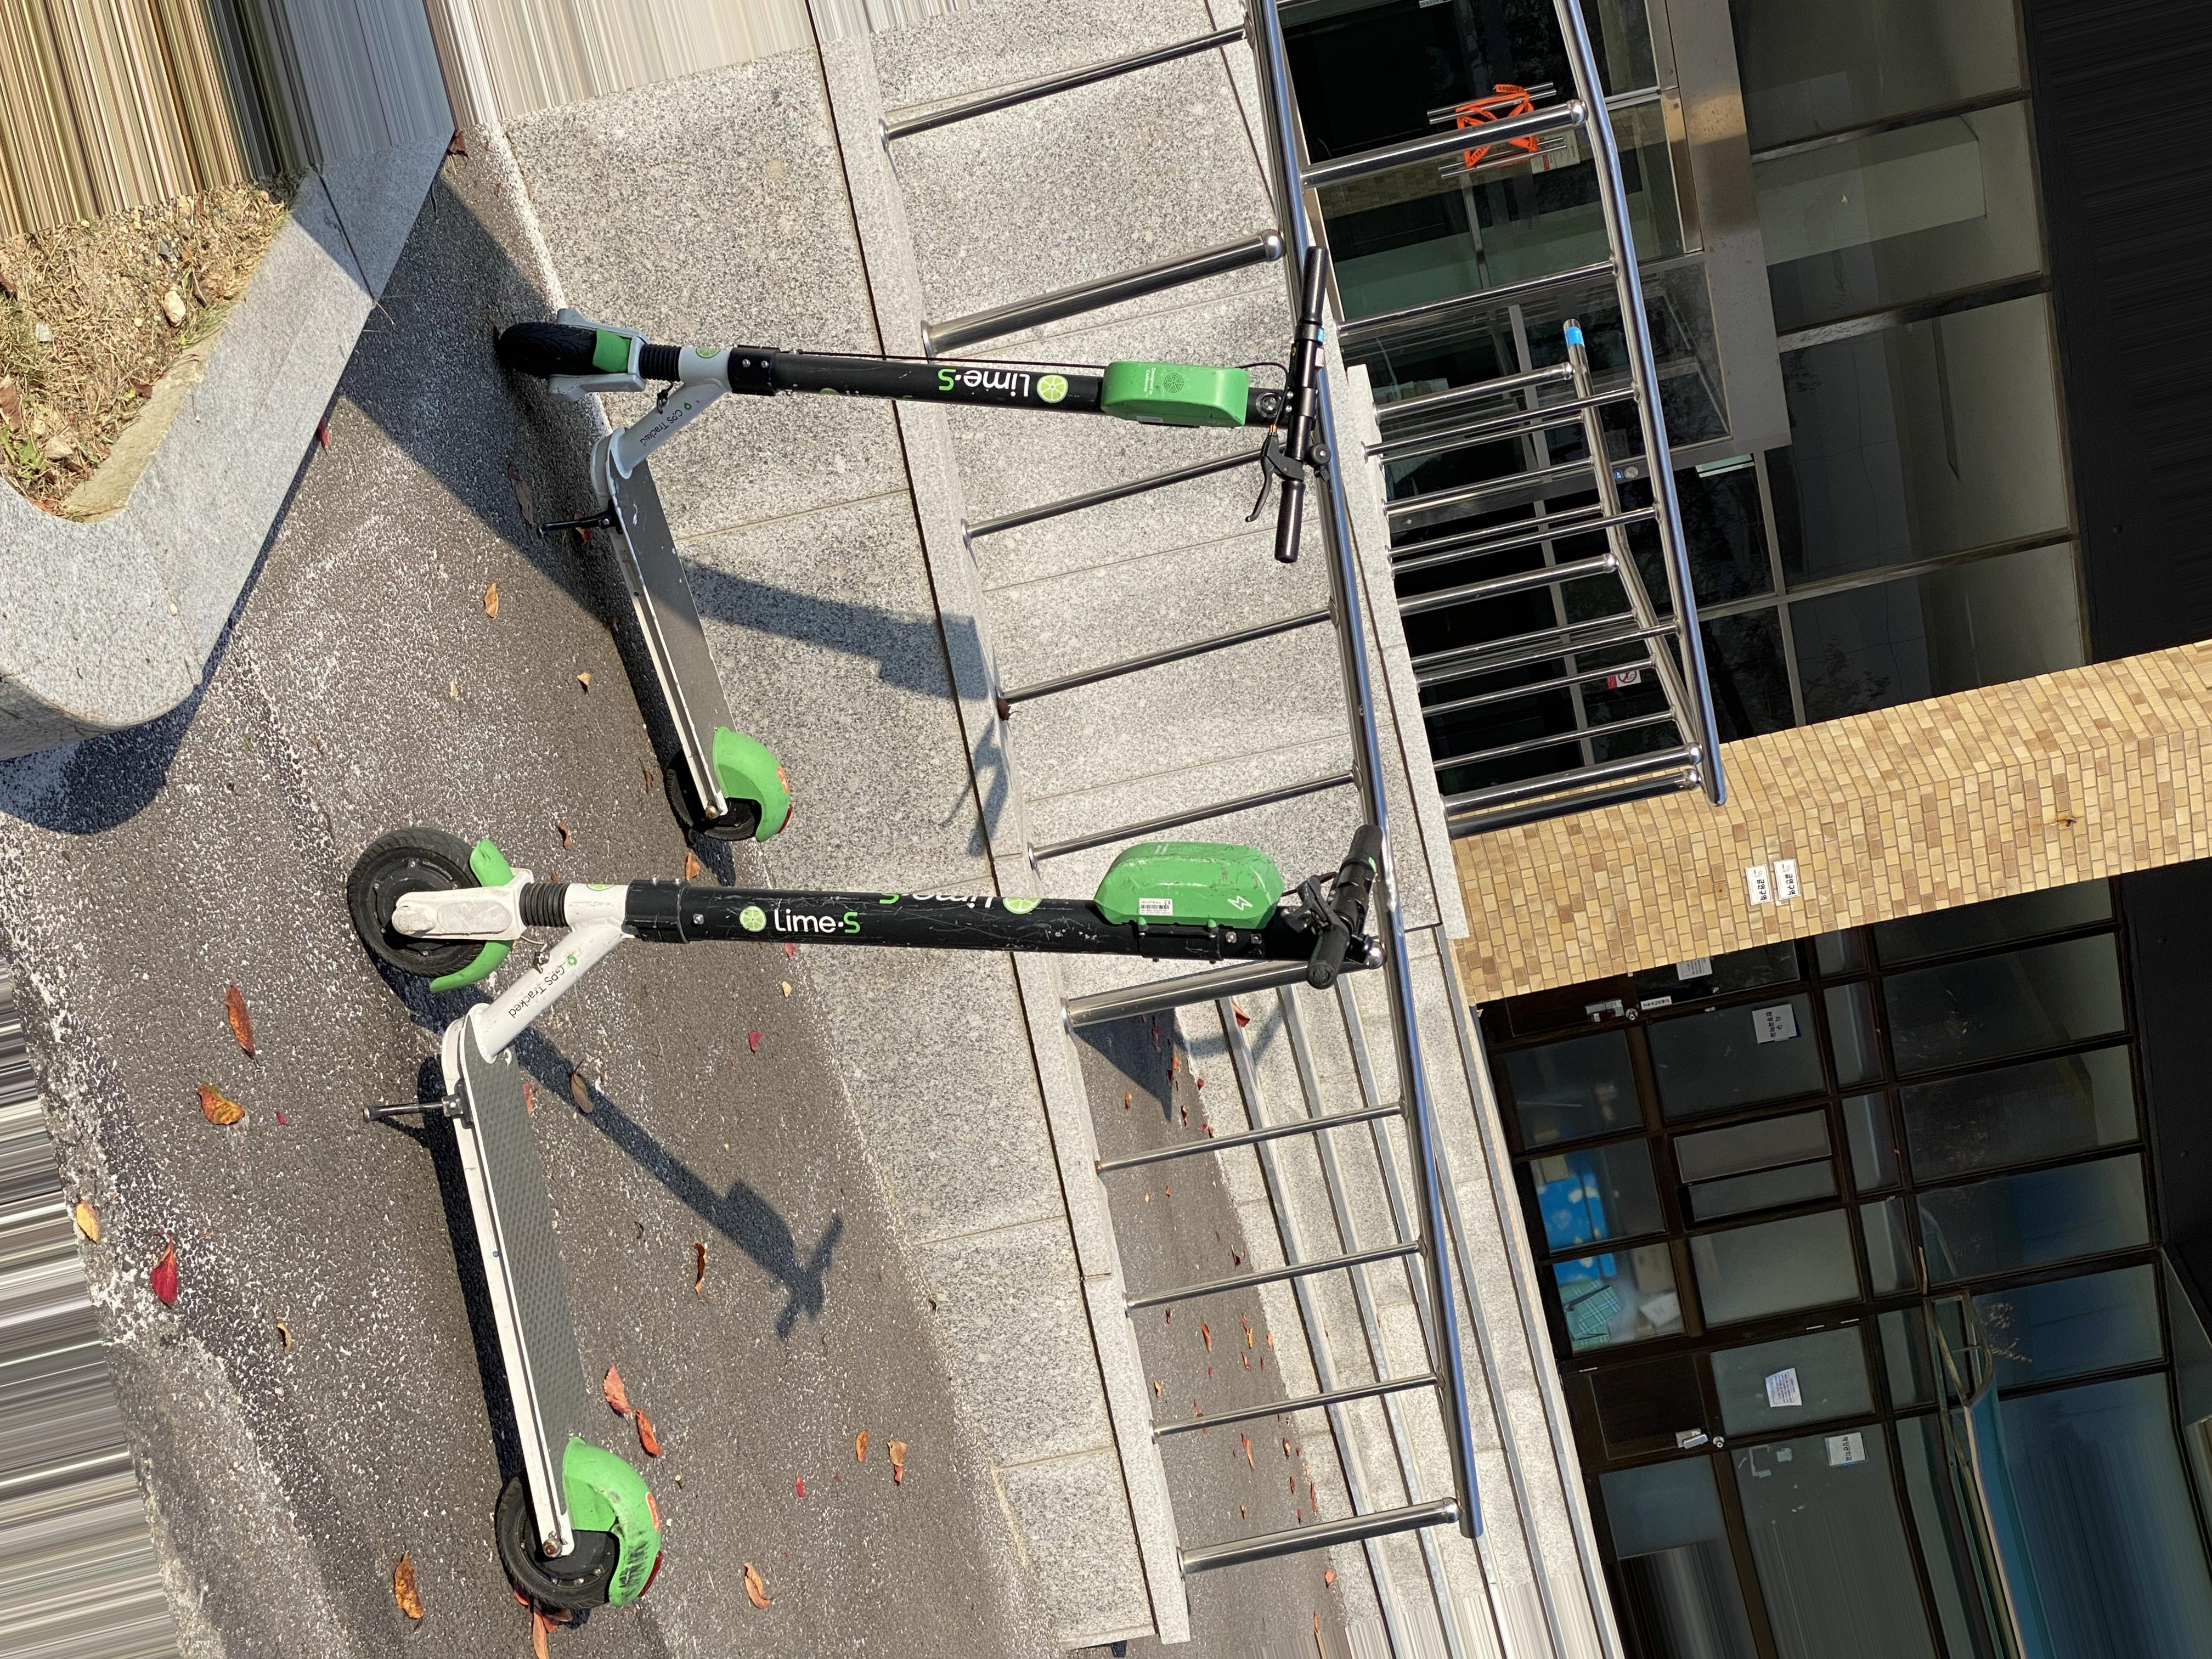scooter: (343, 816, 1385, 1622), (507, 240, 1332, 850)
